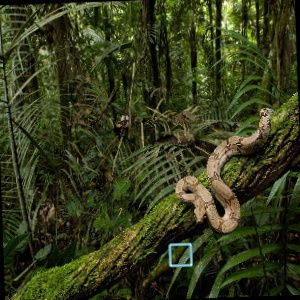square: (166, 241, 196, 270)
